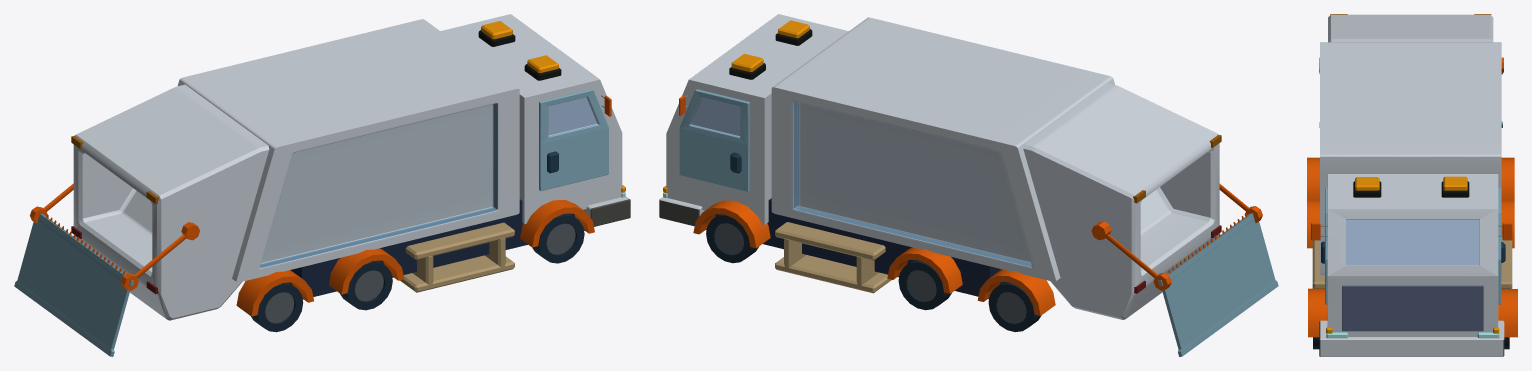
The model's file is truck 1.fbx.
3 views of the same model, side by side, from view 1: azimuth 30°, elevation 25°; view 2: azimuth 150°, elevation 25°; view 3: azimuth 270°, elevation 25° (orthographic). The views are drawn at different scales.
Visible parts, largest first — view 1: truck; view 2: truck; view 3: truck.
Part boxes in pixels (box(x1,y1,x2,y2)): truck: box(14, 14, 630, 356); truck: box(659, 14, 1278, 356); truck: box(1307, 14, 1517, 356).
Size of the model in its own units: 7.4 by 2.46 by 2.72.
